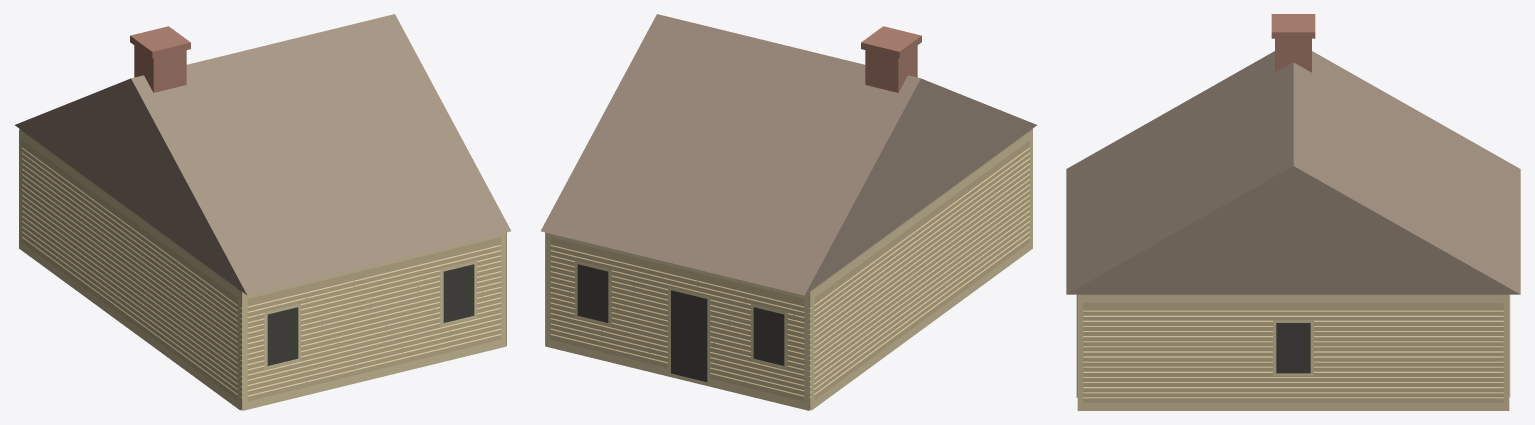
Rendered from recon_1835_west_045__inferred_1835.glb.
The picture shows the model from 3 angles, left to right: view 1: azimuth 30°, elevation 25°; view 2: azimuth 150°, elevation 25°; view 3: azimuth 270°, elevation 25°; orthographic projection. The views are drawn at different scales.
Visible parts, largest first — view 1: recon_1835_west_045__inferred_1835; view 2: recon_1835_west_045__inferred_1835; view 3: recon_1835_west_045__inferred_1835.
Part boxes in pixels (x1=…): recon_1835_west_045__inferred_1835: x1=15, y1=14, x2=510, y2=410; recon_1835_west_045__inferred_1835: x1=541, y1=14, x2=1036, y2=410; recon_1835_west_045__inferred_1835: x1=1066, y1=14, x2=1520, y2=410.
Bounding box in the file's own units: 6.79 × 6.87 × 10.25.
